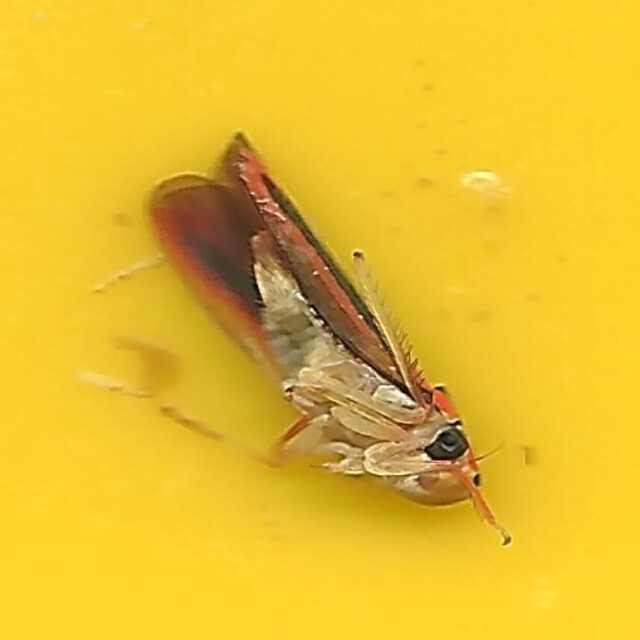Hemiptera: (149, 132, 491, 508)
